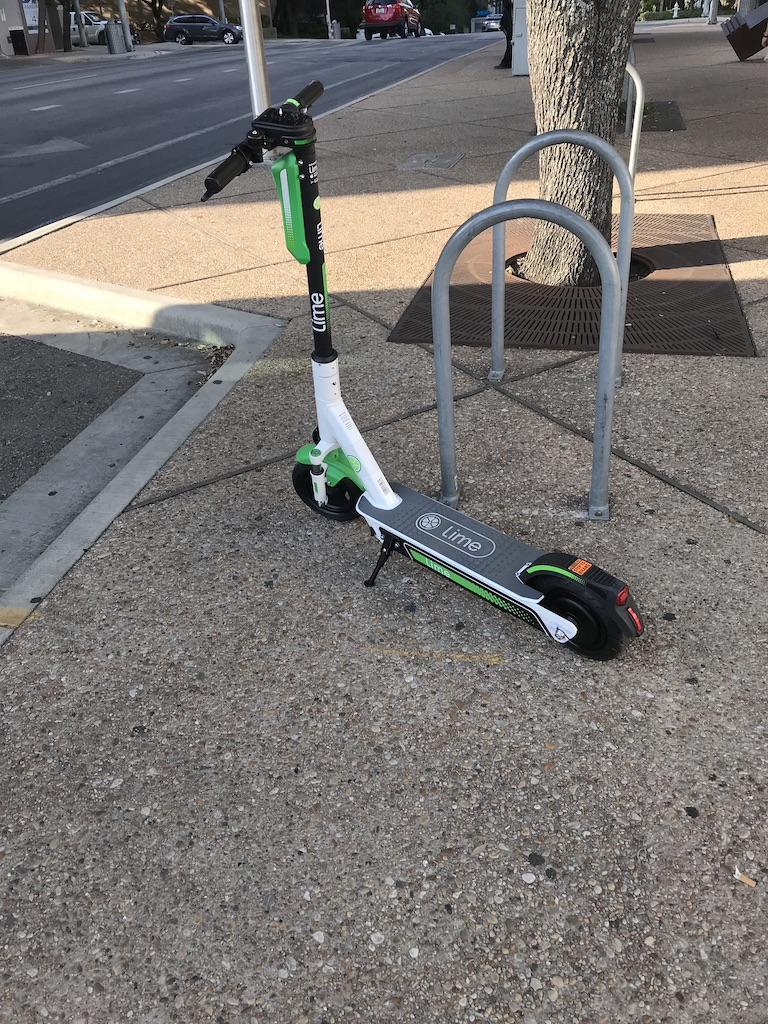scooter: (202, 79, 649, 661)
